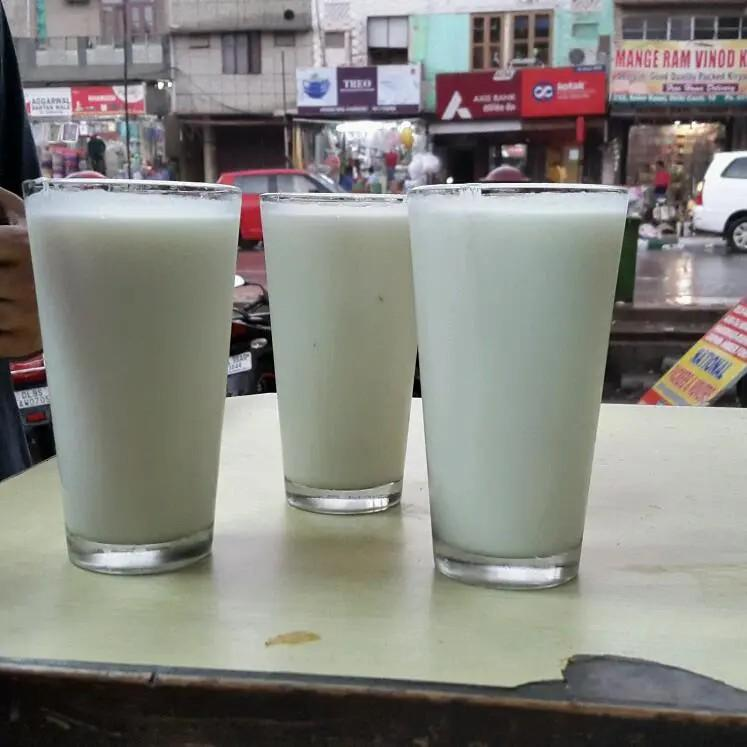Lassi: (31, 203, 239, 548), (395, 205, 600, 552), (277, 209, 428, 492)
